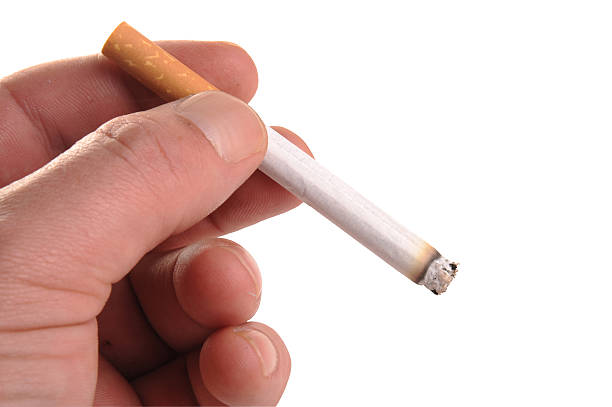cigarette: (100, 21, 459, 297)
